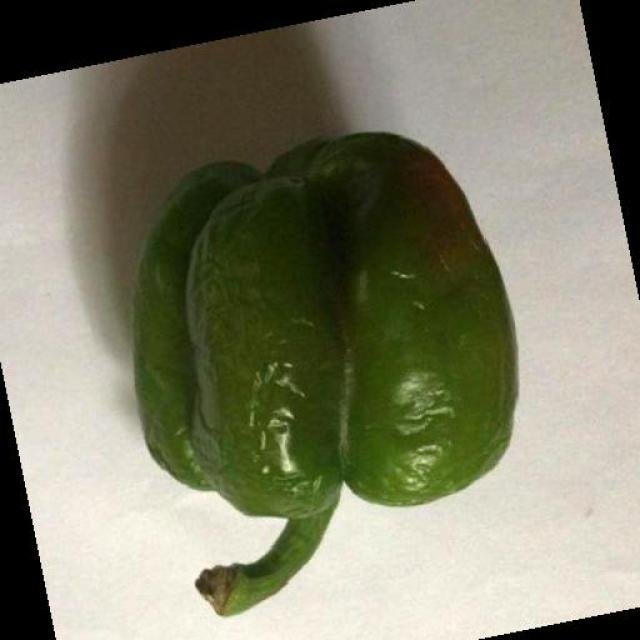Stale_Capsicum: (140, 147, 540, 558)
